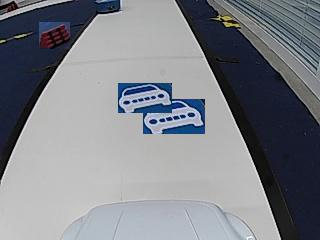prop: (96, 0, 120, 14)
